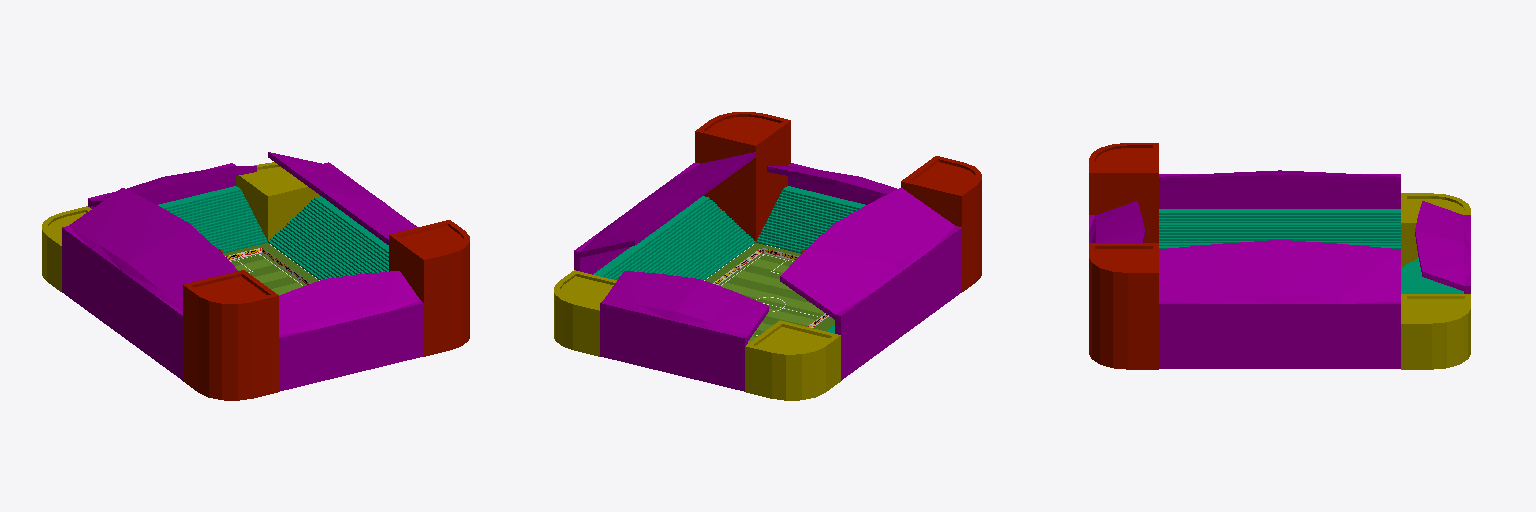
The picture shows the model from 3 angles: view 1: azimuth 30°, elevation 25°; view 2: azimuth 150°, elevation 25°; view 3: azimuth 270°, elevation 25°; orthographic projection.
Visible parts, largest first — view 1: Cube.005_Cube.009_Cube.005_Cube.009_Material.007, Cube.006_Cube.010_Cube.006_Cube.010_Material.007, Cube.010_Cube.014_Cube.010_Cube.014_Material.009, Cube.008_Cube.012_Cube.008_Cube.012_Material.009, Cube.001_Cube.005_Cube.001_Cube.005_Material.004, Cube.004_Cube.008_Cube.004_Cube.008_Material.007, Cube.002_Cube.006_Cube.002_Cube.006_Material.004, Cube.009_Cube.013_Cube.009_Cube.013_Material.008, Cube.007_Cube.011_Cube.007_Cube.011_Material.007, Plane_Plane_Material.002, Cube.011_Cube.015_Cube.011_Cube.015_Material.008; view 2: Cube.005_Cube.009_Cube.005_Cube.009_Material.007, Cube.007_Cube.011_Cube.007_Cube.011_Material.007, Cube.008_Cube.012_Cube.008_Cube.012_Material.009, Cube.001_Cube.005_Cube.001_Cube.005_Material.004, Cube.011_Cube.015_Cube.011_Cube.015_Material.008, Cube.004_Cube.008_Cube.004_Cube.008_Material.007, Cube.010_Cube.014_Cube.010_Cube.014_Material.009, Plane_Plane_Material.002, Cube.003_Cube.007_Cube.003_Cube.007_Material.004, Cube.009_Cube.013_Cube.009_Cube.013_Material.008, Cube.006_Cube.010_Cube.006_Cube.010_Material.007; view 3: Cube.004_Cube.008_Cube.004_Cube.008_Material.007, Cube.005_Cube.009_Cube.005_Cube.009_Material.007, Cube.008_Cube.012_Cube.008_Cube.012_Material.009, Cube_Cube.001_Cube_Cube.001_Material.004, Cube.009_Cube.013_Cube.009_Cube.013_Material.008, Cube.010_Cube.014_Cube.010_Cube.014_Material.009, Cube.007_Cube.011_Cube.007_Cube.011_Material.007, Cube.006_Cube.010_Cube.006_Cube.010_Material.007, Cube.011_Cube.015_Cube.011_Cube.015_Material.008, Cube.002_Cube.006_Cube.002_Cube.006_Material.004.
Part boxes in pixels (x1,y1,x2,y2): Cube.005_Cube.009_Cube.005_Cube.009_Material.007: (62, 188, 237, 380); Cube.006_Cube.010_Cube.006_Cube.010_Material.007: (279, 271, 423, 391); Cube.010_Cube.014_Cube.010_Cube.014_Material.009: (183, 270, 278, 400); Cube.008_Cube.012_Cube.008_Cube.012_Material.009: (389, 220, 469, 356); Cube.001_Cube.005_Cube.001_Cube.005_Material.004: (268, 196, 388, 279); Cube.004_Cube.008_Cube.004_Cube.008_Material.007: (268, 152, 416, 244); Cube.002_Cube.006_Cube.002_Cube.006_Material.004: (158, 186, 267, 253); Cube.009_Cube.013_Cube.009_Cube.013_Material.008: (236, 162, 319, 240); Cube.007_Cube.011_Cube.007_Cube.011_Material.007: (88, 163, 256, 208); Plane_Plane_Material.002: (223, 243, 319, 295); Cube.011_Cube.015_Cube.011_Cube.015_Material.008: (42, 206, 91, 291); Cube.005_Cube.009_Cube.005_Cube.009_Material.007: (780, 188, 961, 380); Cube.007_Cube.011_Cube.007_Cube.011_Material.007: (600, 271, 768, 391); Cube.008_Cube.012_Cube.008_Cube.012_Material.009: (695, 112, 790, 240); Cube.001_Cube.005_Cube.001_Cube.005_Material.004: (593, 196, 755, 279); Cube.011_Cube.015_Cube.011_Cube.015_Material.008: (745, 320, 840, 400); Cube.004_Cube.008_Cube.004_Cube.008_Material.007: (574, 152, 755, 274); Cube.010_Cube.014_Cube.010_Cube.014_Material.009: (901, 156, 981, 291); Plane_Plane_Material.002: (704, 243, 834, 342); Cube.003_Cube.007_Cube.003_Cube.007_Material.004: (756, 186, 865, 253); Cube.009_Cube.013_Cube.009_Cube.013_Material.008: (554, 270, 616, 356); Cube.006_Cube.010_Cube.006_Cube.010_Material.007: (767, 163, 896, 204); Cube.004_Cube.008_Cube.004_Cube.008_Material.007: (1159, 240, 1400, 368); Cube.005_Cube.009_Cube.005_Cube.009_Material.007: (1159, 170, 1400, 208); Cube.008_Cube.012_Cube.008_Cube.012_Material.009: (1089, 243, 1158, 369); Cube_Cube.001_Cube_Cube.001_Material.004: (1159, 209, 1400, 248); Cube.009_Cube.013_Cube.009_Cube.013_Material.008: (1401, 294, 1470, 369); Cube.010_Cube.014_Cube.010_Cube.014_Material.009: (1089, 143, 1158, 242); Cube.007_Cube.011_Cube.007_Cube.011_Material.007: (1415, 201, 1470, 293); Cube.006_Cube.010_Cube.006_Cube.010_Material.007: (1089, 201, 1144, 242); Cube.011_Cube.015_Cube.011_Cube.015_Material.008: (1401, 193, 1470, 267); Cube.002_Cube.006_Cube.002_Cube.006_Material.004: (1401, 257, 1463, 293).
Size of the model in its own units: 16.6 by 5.77 by 20.6.
8 materials, 2 textured.